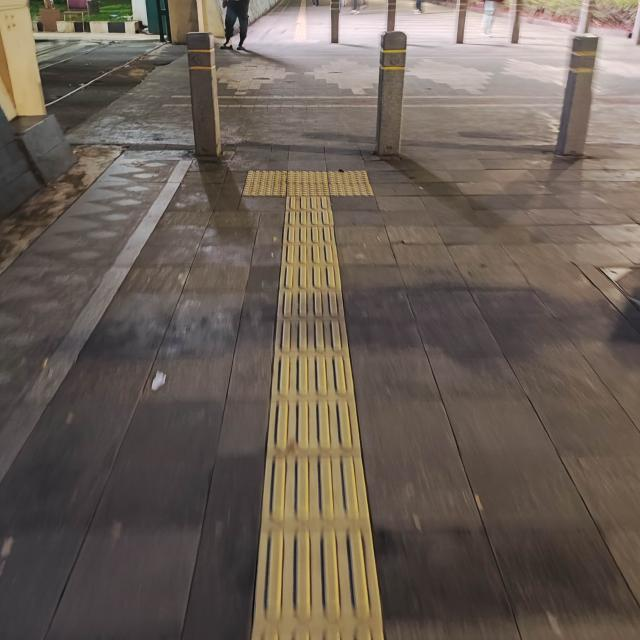lurus: (269, 177, 365, 640)
